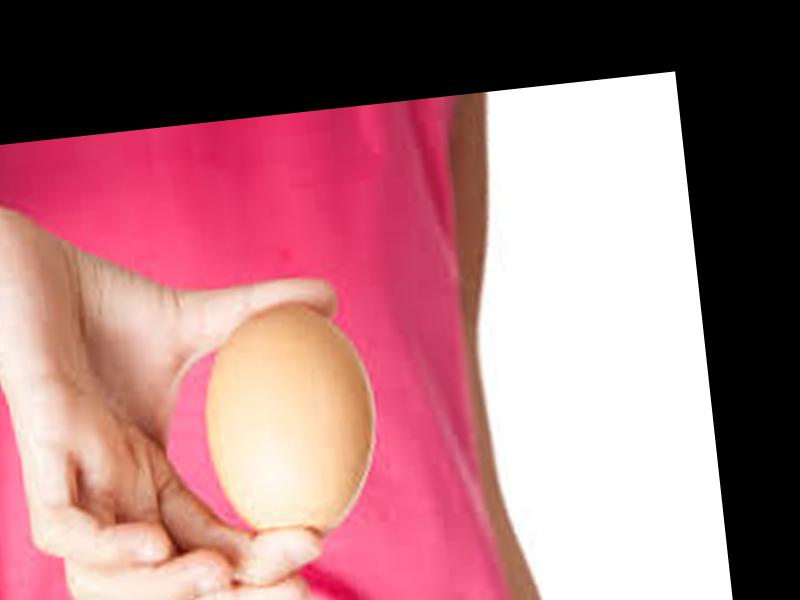Eggs: (195, 299, 385, 552)
